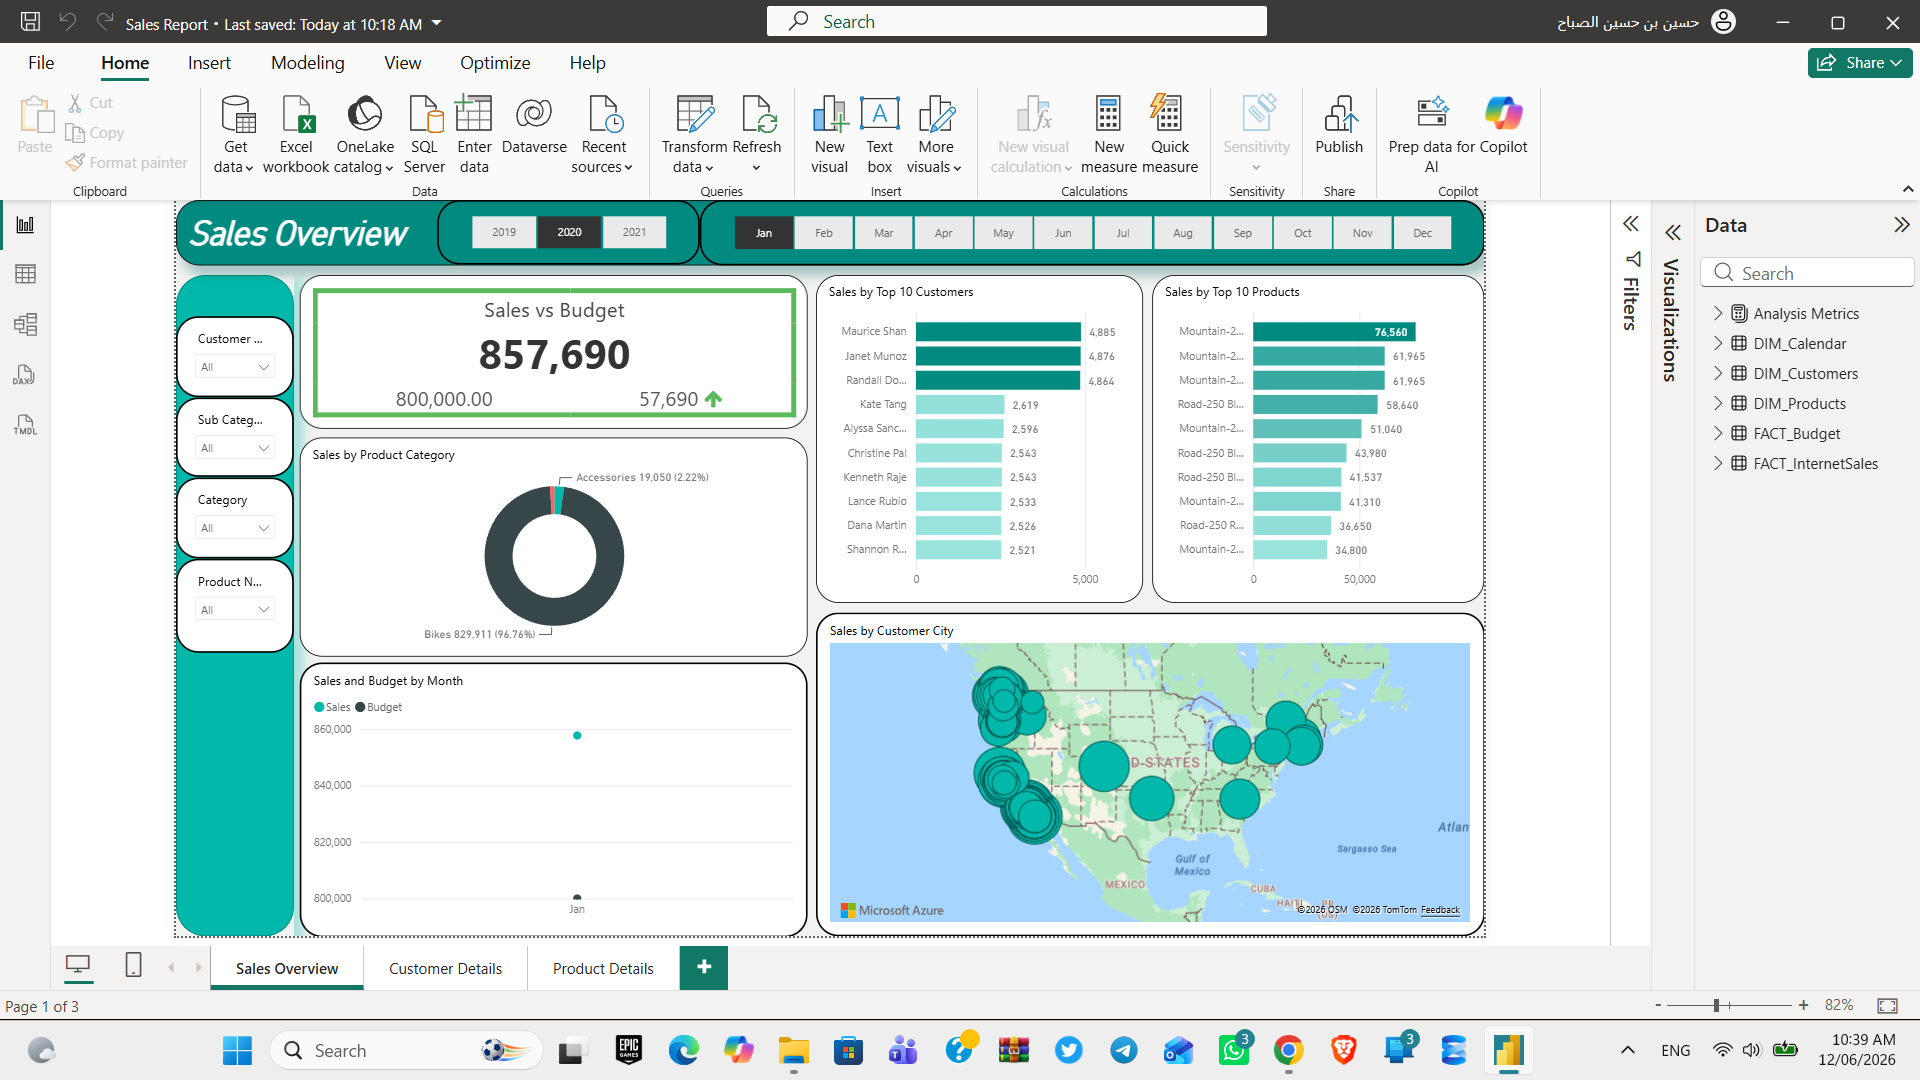

What the dashboard file says about the page in this screenshot:
{"tool":"powerbi","page":{"name":"Sales Overview","canvas":[1280,720],"ordinal":0},"visuals":[{"type":"shape","box":[0,73.7,115.5,647],"z":0},{"type":"textbox","box":[0,0,1280,64],"z":1000},{"type":"slicer","fields":{"Values":["DIM_Calendar.Year"]},"box":[255.6,0,256.8,63.6],"z":2000},{"type":"slicer","fields":{"Values":["DIM_Calendar.MonthShort"]},"box":[512,0,768,64],"z":3000},{"type":"slicer","fields":{"Values":["DIM_Customers.Customer City"]},"box":[0,114.1,115.5,79.3],"z":4000},{"type":"slicer","fields":{"Values":["DIM_Products.Product Category"]},"box":[0,271.3,115.5,79.3],"z":5000},{"type":"slicer","fields":{"Values":["DIM_Products.Product Name"]},"box":[0,350.6,115.5,91.8],"z":6000},{"type":"slicer","fields":{"Values":["DIM_Products.Sub Category"]},"box":[0,193.4,115.5,77.9],"z":7000},{"type":"barChart","title":"Sales by Top 10 Products","fields":{"Category":["DIM_Products.Product Name"],"Y":["Analysis Metrics.Sales"]},"box":[955.2,73,324.8,321.1],"z":8000},{"type":"lineChart","fields":{"Category":["DIM_Calendar.MonthShort"],"Y":["Analysis Metrics.Sales","Analysis Metrics.Budget"]},"box":[121,452.2,496.7,268.5],"z":9000},{"type":"barChart","title":"Sales by Top 10 Customers","fields":{"Category":["DIM_Customers.Full Name"],"Y":["Analysis Metrics.Sales"]},"box":[625.9,73,320.2,321.1],"z":10000},{"type":"donutChart","fields":{"Y":["Analysis Metrics.Sales"],"Series":["DIM_Products.Product Category"]},"box":[121,232.3,496.7,214.3],"z":11000},{"type":"azureMap","fields":{"Category":["DIM_Customers.Customer City"],"Size":["Analysis Metrics.Sales"]},"box":[625.9,403.3,654.1,316.6],"z":12000},{"type":"BBED0A4D4D8D44CE93CF2DAFADEE466C","fields":{"actual":["Analysis Metrics.Sales"],"target2":["Analysis Metrics.Sales / Budget"],"target1":["Analysis Metrics.Budget"]},"box":[121,73.7,496.7,150.3],"z":13000}]}

Visuals, with their boxes on the page's 1280x720 design canvas (x1, y1, x2, y2). These are canvas units, not pixel positions in the 1920x1080 screenshot, which may show the page scaled, cropped or inside an application window:
shape: x1=0 y1=74 x2=116 y2=721
textbox: x1=0 y1=0 x2=1280 y2=64
slicer - DIM_Calendar.Year: x1=256 y1=0 x2=512 y2=64
slicer - DIM_Calendar.MonthShort: x1=512 y1=0 x2=1280 y2=64
slicer - DIM_Customers.Customer City: x1=0 y1=114 x2=116 y2=193
slicer - DIM_Products.Product Category: x1=0 y1=271 x2=116 y2=351
slicer - DIM_Products.Product Name: x1=0 y1=351 x2=116 y2=442
slicer - DIM_Products.Sub Category: x1=0 y1=193 x2=116 y2=271
"Sales by Top 10 Products" barChart: x1=955 y1=73 x2=1280 y2=394
lineChart - DIM_Calendar.MonthShort x Analysis Metrics.Sales: x1=121 y1=452 x2=618 y2=721
"Sales by Top 10 Customers" barChart: x1=626 y1=73 x2=946 y2=394
donutChart - Analysis Metrics.Sales x DIM_Products.Product Category: x1=121 y1=232 x2=618 y2=447
azureMap - DIM_Customers.Customer City x Analysis Metrics.Sales: x1=626 y1=403 x2=1280 y2=720
BBED0A4D4D8D44CE93CF2DAFADEE466C - Analysis Metrics.Sales x Analysis Metrics.Sales / Budget: x1=121 y1=74 x2=618 y2=224
